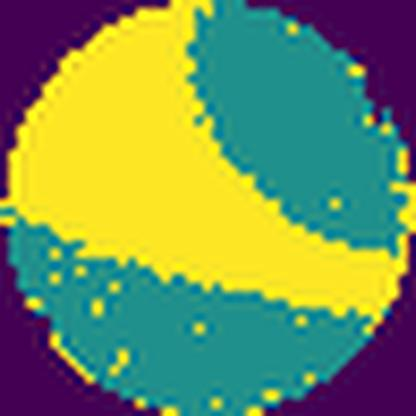Loc: (0, 0, 411, 335)
